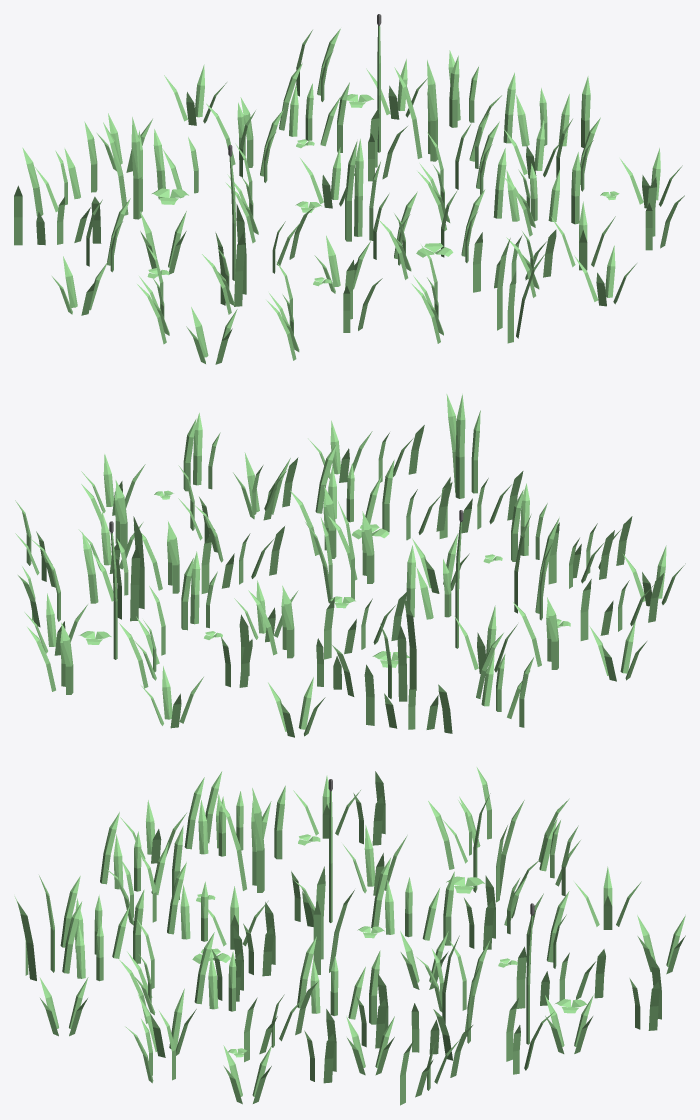
Rendered from Grass3.fbx.
3 renders of one model, top to bottom at view 1: azimuth 30°, elevation 25°; view 2: azimuth 150°, elevation 25°; view 3: azimuth 270°, elevation 25°, orthographic. The views are drawn at different scales.
Visible parts, largest first — view 1: Grass3; view 2: Grass3; view 3: Grass3.
Part boxes in pixels (bbox=[...]): Grass3: bbox=[14, 14, 684, 364]; Grass3: bbox=[15, 394, 685, 737]; Grass3: bbox=[14, 767, 685, 1105].
Bounding box in the file's own units: 5.89 × 1.31 × 5.66.
